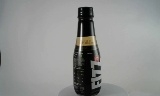appyfizz: (66, 6, 95, 95)
